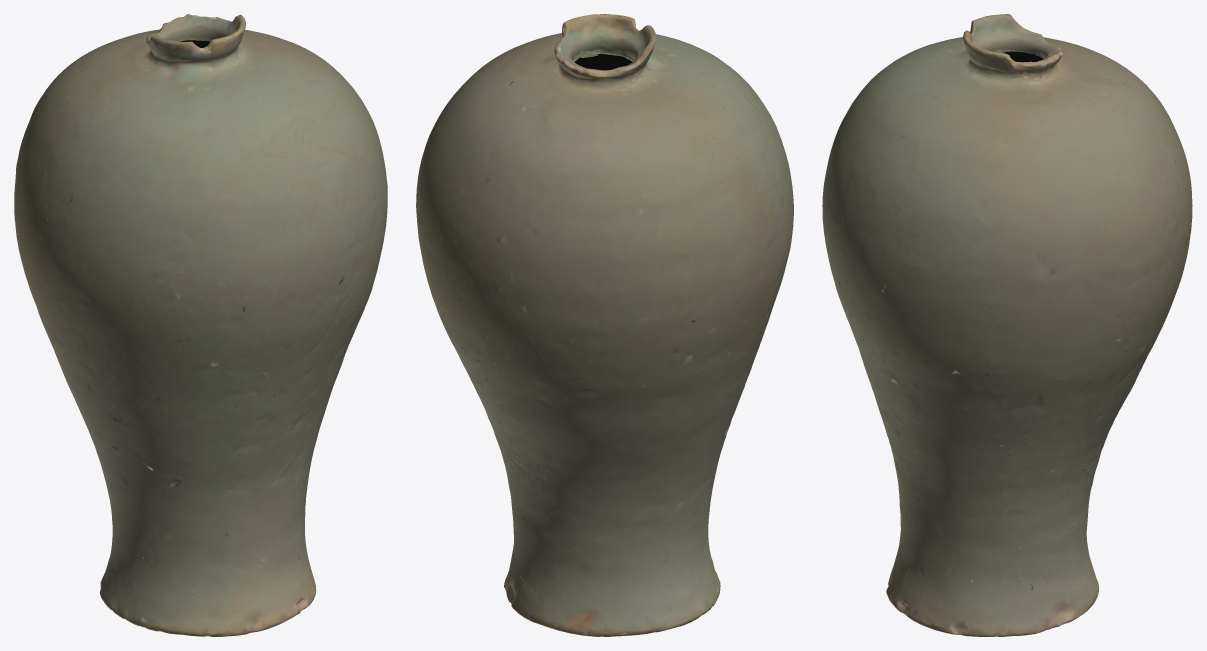
The model's file is maebyeong.glb.
3 renders of one model, left to right at view 1: azimuth 30°, elevation 25°; view 2: azimuth 150°, elevation 25°; view 3: azimuth 270°, elevation 25°, orthographic.
Visible parts, largest first — view 1: Object_2, Object_3; view 2: Object_2, Object_3, Object_4; view 3: Object_2, Object_3.
Boxes of the visible parts, x1=… form: Object_2: x1=14, y1=17, x2=387, y2=636; Object_3: x1=15, y1=14, x2=387, y2=636; Object_2: x1=423, y1=14, x2=791, y2=636; Object_3: x1=416, y1=14, x2=793, y2=635; Object_4: x1=574, y1=53, x2=632, y2=70; Object_2: x1=824, y1=27, x2=1192, y2=636; Object_3: x1=822, y1=14, x2=1192, y2=635.
Size of the model in its own units: 0.1897 by 0.315 by 0.1887.
Materials: 2 (1 with a texture image).
